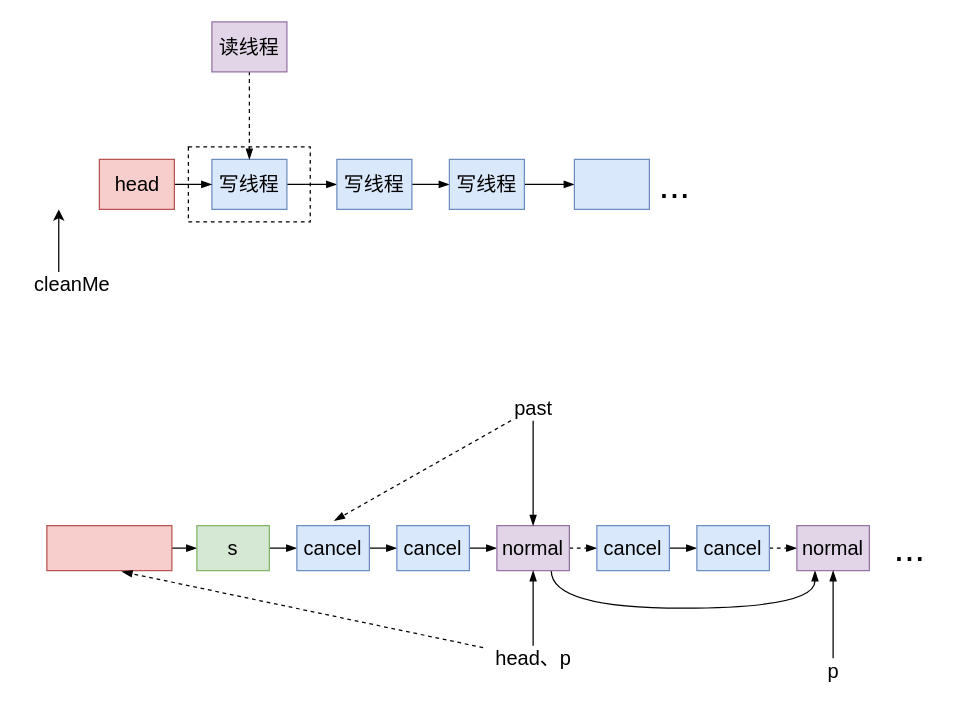
The diagram is 955 pixels wide and 705 high, and some of its shapes have lost their labels. Each missing label, with the centre of its shape:
head(cancel): point (109, 547)
tail: point (611, 183)
